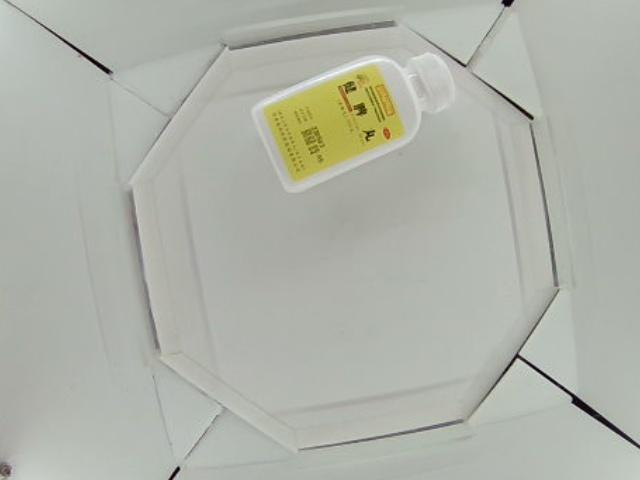Bottle: (251, 48, 455, 190)
